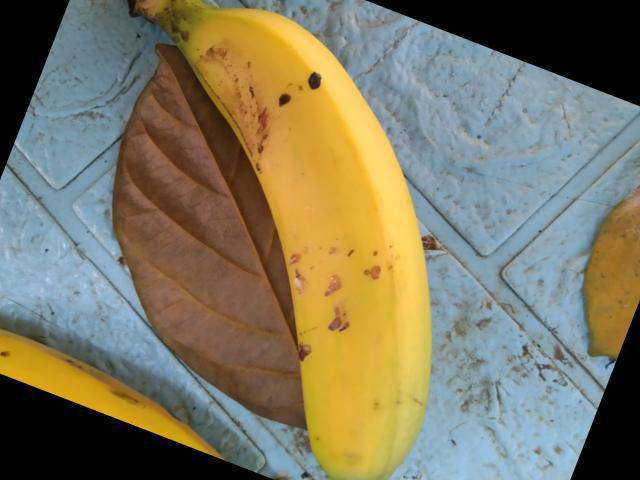ripe: (181, 20, 486, 479)
